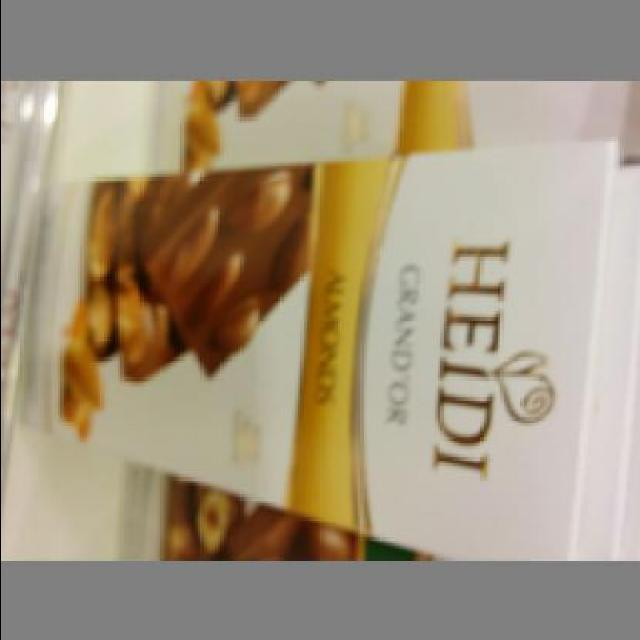Chocolate bar: (47, 134, 624, 557)
